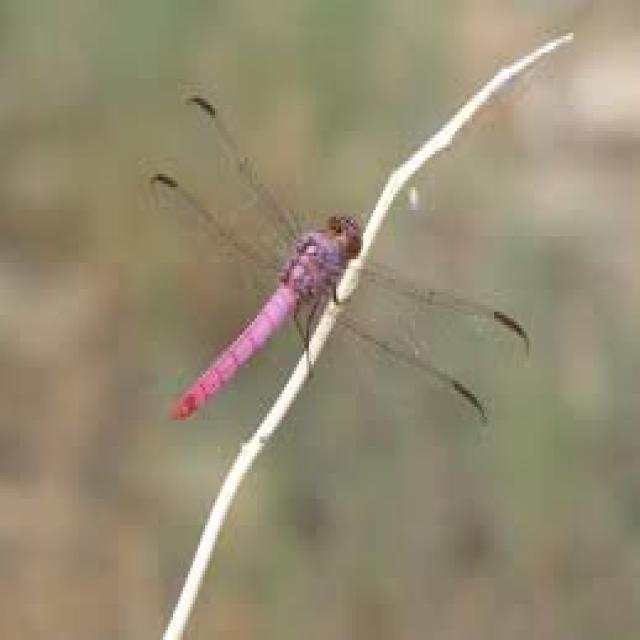dragonfly: (131, 77, 533, 454)
